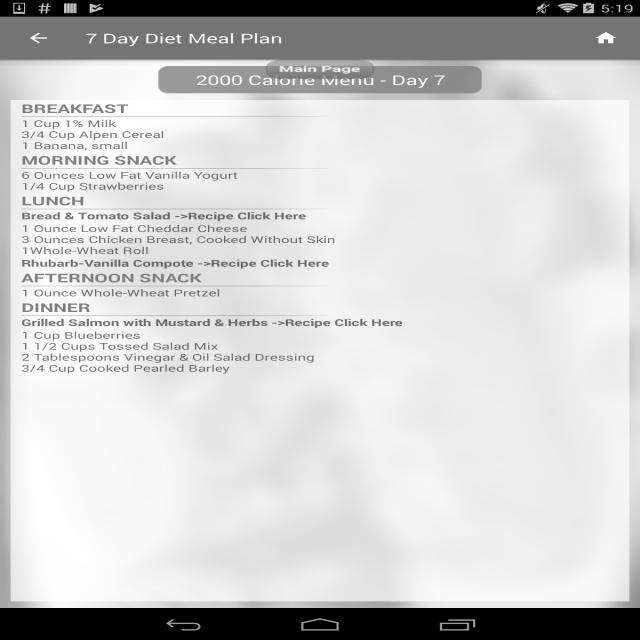Button: (266, 60, 374, 80)
ImageButton: (9, 17, 68, 59)
ImageView: (21, 116, 330, 117), (21, 168, 330, 169), (21, 315, 330, 316), (21, 209, 330, 209), (21, 286, 330, 286)
TextView: (21, 329, 320, 374), (21, 222, 341, 257), (158, 66, 482, 93), (21, 117, 169, 152), (22, 169, 244, 192), (21, 316, 404, 329), (21, 257, 330, 269), (21, 209, 306, 222), (85, 29, 283, 47), (21, 269, 202, 286), (22, 286, 220, 299), (21, 152, 177, 168), (22, 100, 128, 116), (580, 22, 632, 54), (21, 299, 91, 315), (22, 192, 84, 209)
